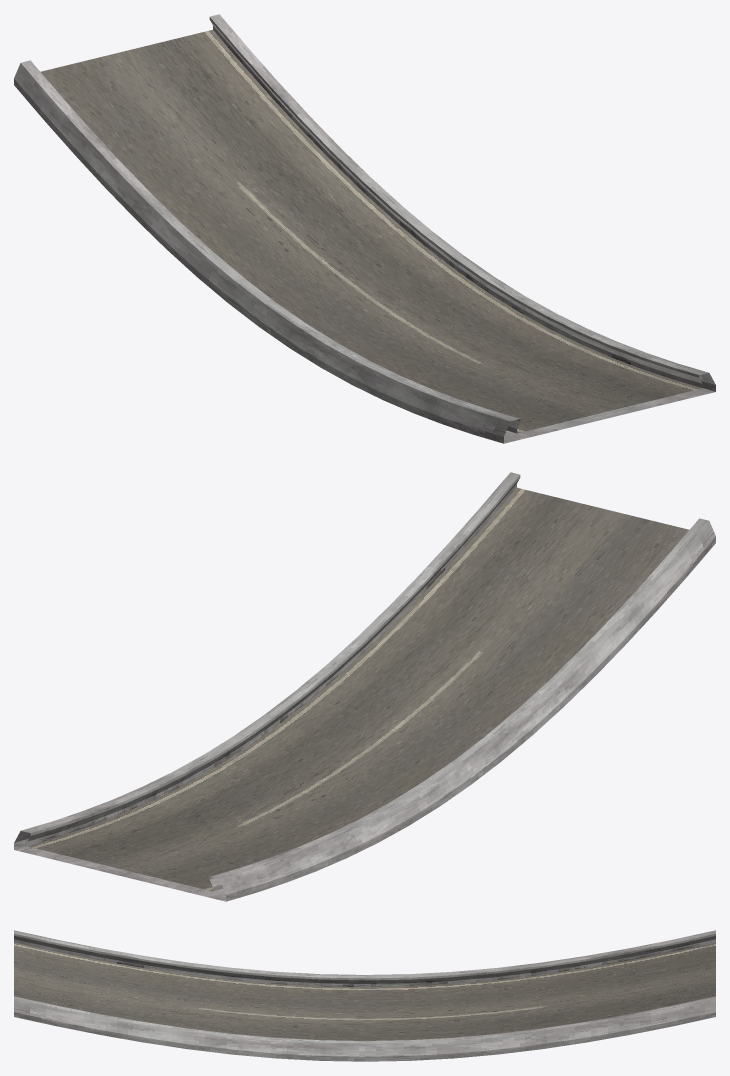
Rendered from straight4.glb.
3 renders of one model, top to bottom at view 1: azimuth 30°, elevation 25°; view 2: azimuth 150°, elevation 25°; view 3: azimuth 270°, elevation 25°, orthographic. The views are drawn at different scales.
Visible parts, largest first — view 1: road-Straight-BiSlopeDown-BiSlopeUp-Even-Center-Size4; view 2: road-Straight-BiSlopeDown-BiSlopeUp-Even-Center-Size4; view 3: road-Straight-BiSlopeDown-BiSlopeUp-Even-Center-Size4.
Part boxes in pixels (<box>): road-Straight-BiSlopeDown-BiSlopeUp-Even-Center-Size4: <box>14,14,715,443</box>; road-Straight-BiSlopeDown-BiSlopeUp-Even-Center-Size4: <box>14,472,715,901</box>; road-Straight-BiSlopeDown-BiSlopeUp-Even-Center-Size4: <box>14,930,715,1061</box>.
Size of the model in its own units: 1 by 0.375 by 4.
2 materials, 2 textured.
